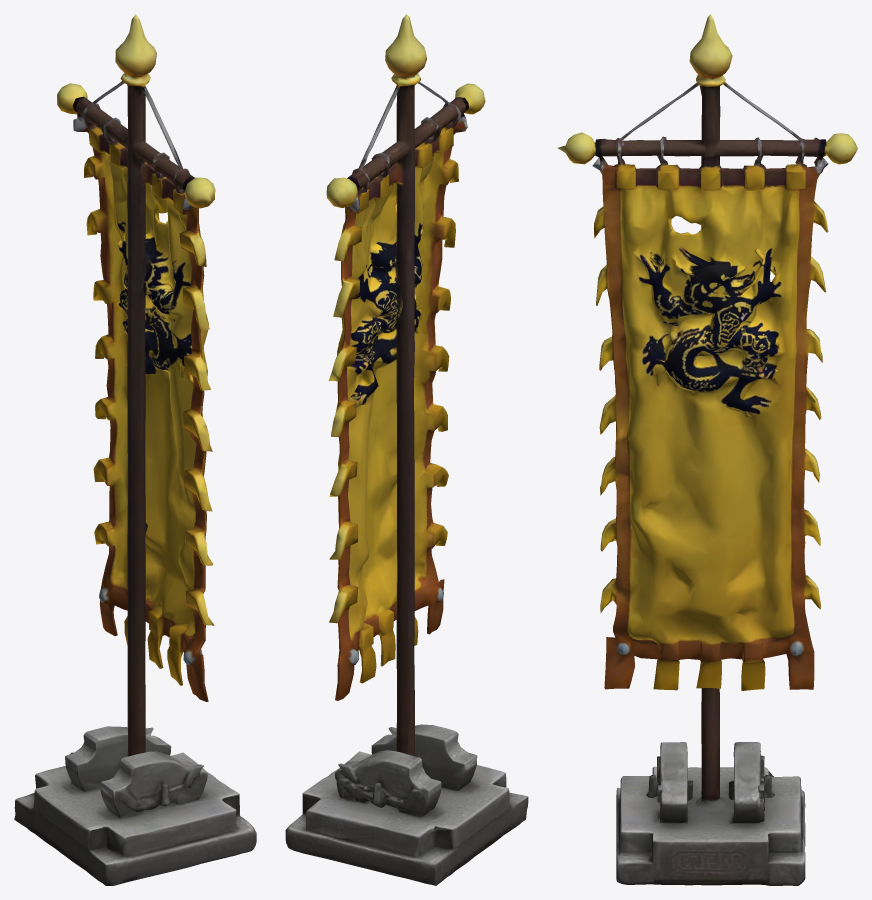
Rendered from court-banner.glb.
3 views of the same model, side by side, from view 1: azimuth 30°, elevation 25°; view 2: azimuth 150°, elevation 25°; view 3: azimuth 270°, elevation 25° (orthographic).
Parts seen in each view (by area): view 1: tripo_node_61fbc799-00ec-4dae-a5c3-24fb352f425d; view 2: tripo_node_61fbc799-00ec-4dae-a5c3-24fb352f425d; view 3: tripo_node_61fbc799-00ec-4dae-a5c3-24fb352f425d.
Boxes of the visible parts, bbox=[...] form: tripo_node_61fbc799-00ec-4dae-a5c3-24fb352f425d: bbox=[14, 14, 256, 885]; tripo_node_61fbc799-00ec-4dae-a5c3-24fb352f425d: bbox=[285, 14, 528, 885]; tripo_node_61fbc799-00ec-4dae-a5c3-24fb352f425d: bbox=[557, 14, 857, 885].
Size of the model in its own units: 0.194 by 1 by 0.3267.
Materials: 1 (1 with a texture image).
